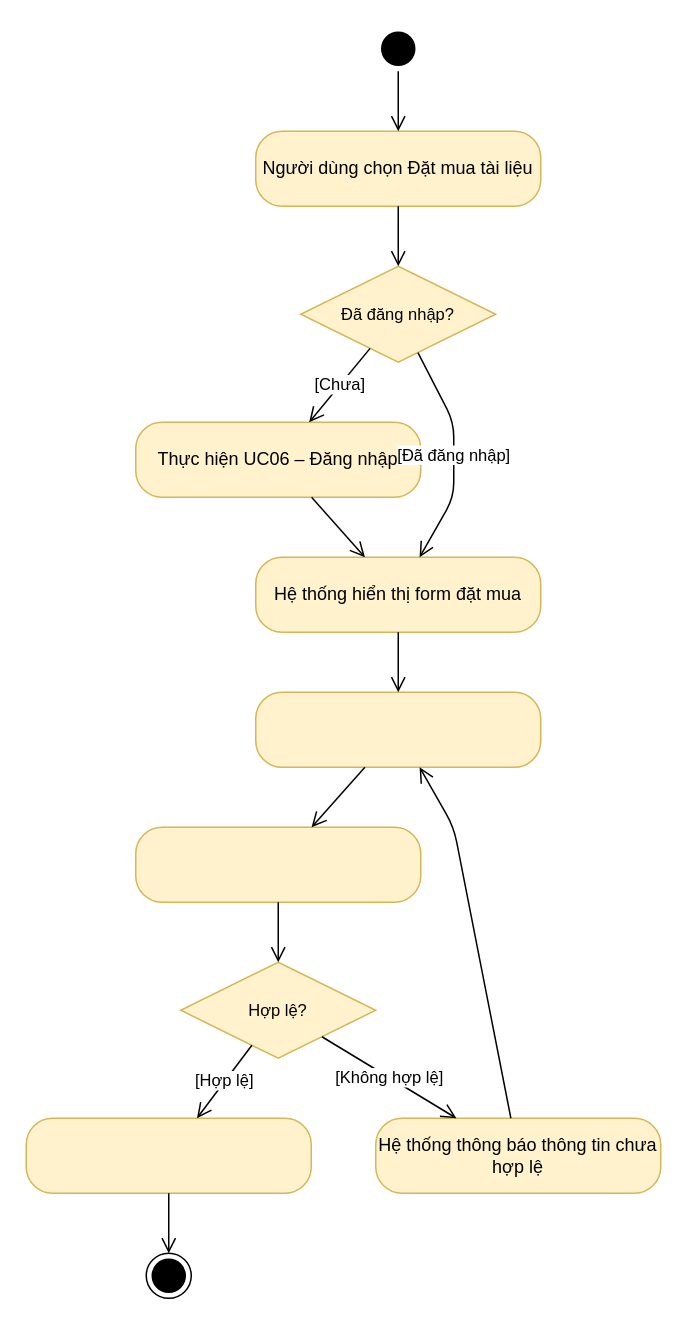
Image size: 687x1325. Some labels were removed from this diagram. The shapes that lost their labels are listed below. From the top down, each one's centre as x and y in pixels, then its label:
At [397,729]: "Người dùng nhập tên sách, tác giả, năm xuất bản".
At [277,864]: "Hệ thống kiểm tra thông tin".
At [168,1155]: "Hệ thống lưu yêu cầu (Chờ duyệt) và thông báo thành công".
